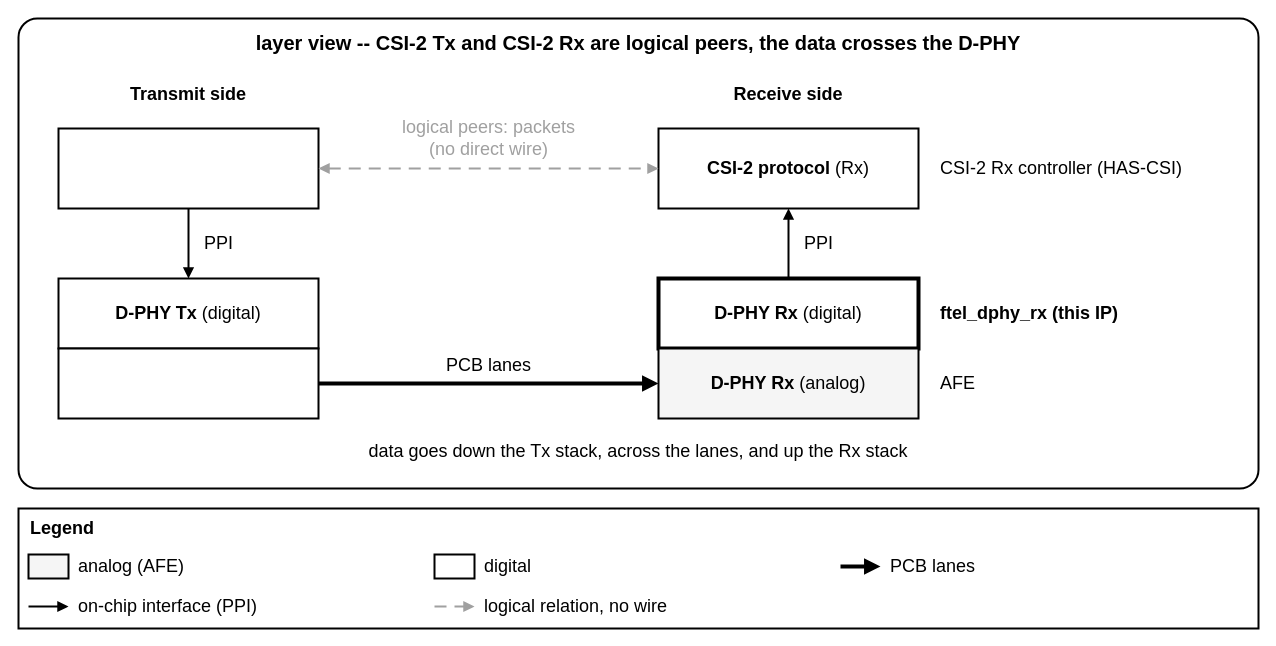
This 1276x646 diagram has some shape labels left out. Each missing label, with the box of its shape:
CSI-2 protocol (Tx): (57, 127, 319, 209)
D-PHY Tx (analog): (57, 347, 319, 419)
